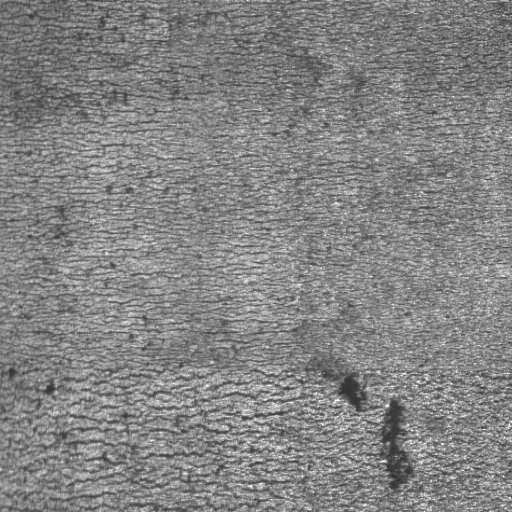aokeng: (378, 392, 419, 496)
